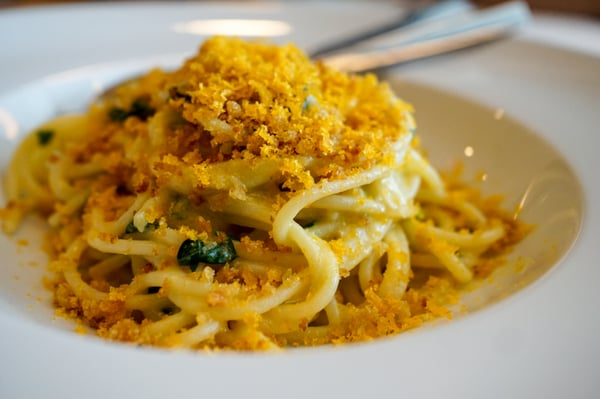curry: (177, 235, 237, 269)
